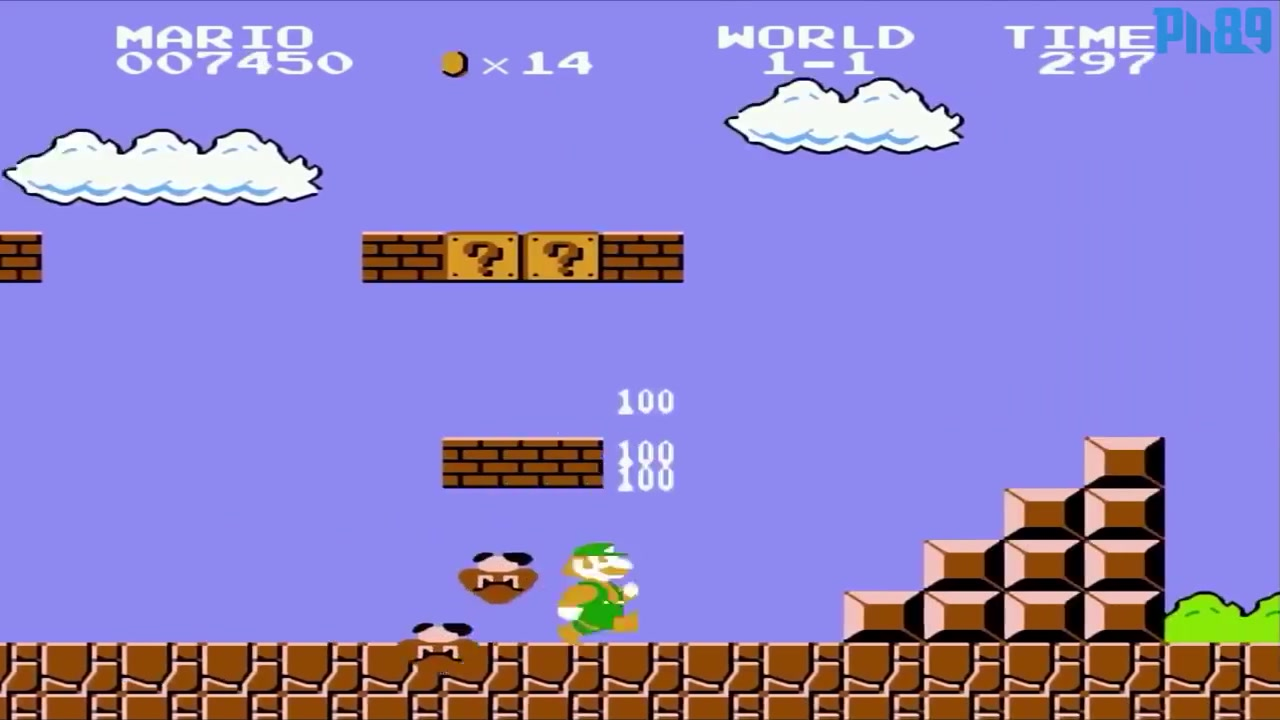mario: (552, 539, 644, 643)
